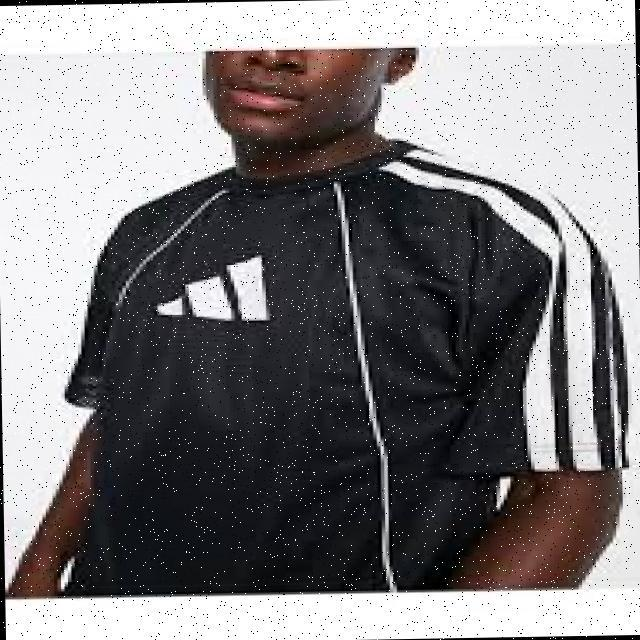Adidas: (137, 247, 273, 328)
